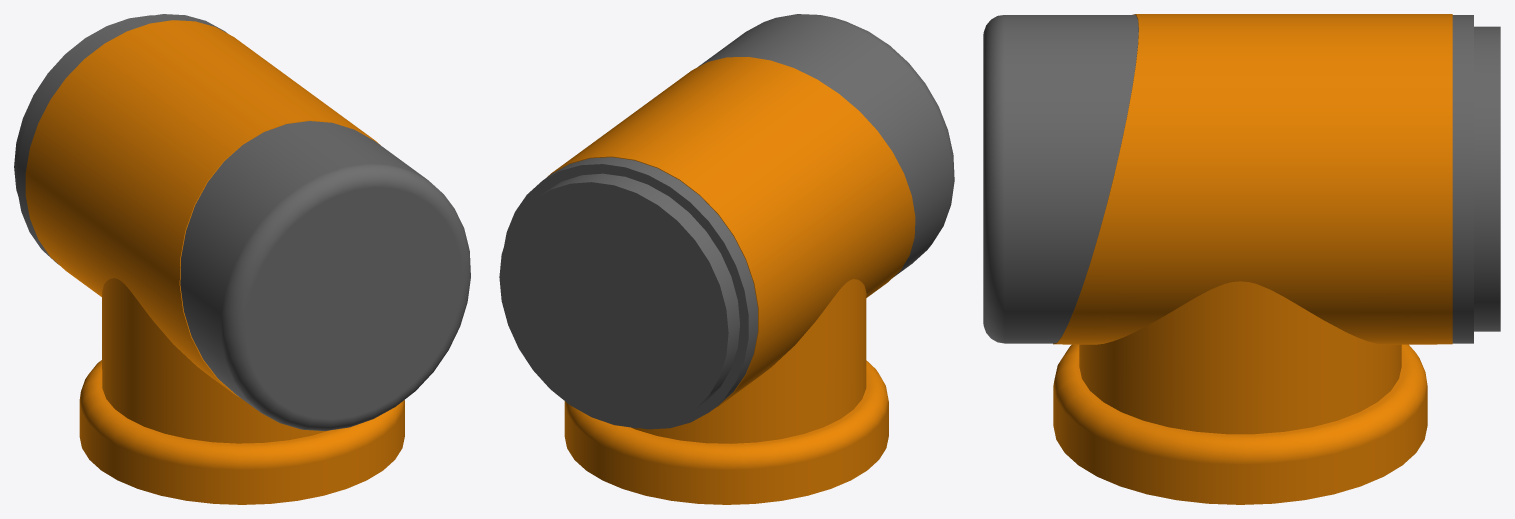
3 views of the same model, side by side, from view 1: azimuth 30°, elevation 25°; view 2: azimuth 150°, elevation 25°; view 3: azimuth 270°, elevation 25° (orthographic). The views are drawn at different scales.
Parts seen in each view (by area): view 1: NONE; view 2: NONE; view 3: NONE.
Part boxes in pixels (x1,y1,x2,y2): NONE: (14,14,470,504); NONE: (499,14,954,504); NONE: (983,14,1500,504).
Size of the model in its own units: 0.087 by 0.1203 by 0.1018.
